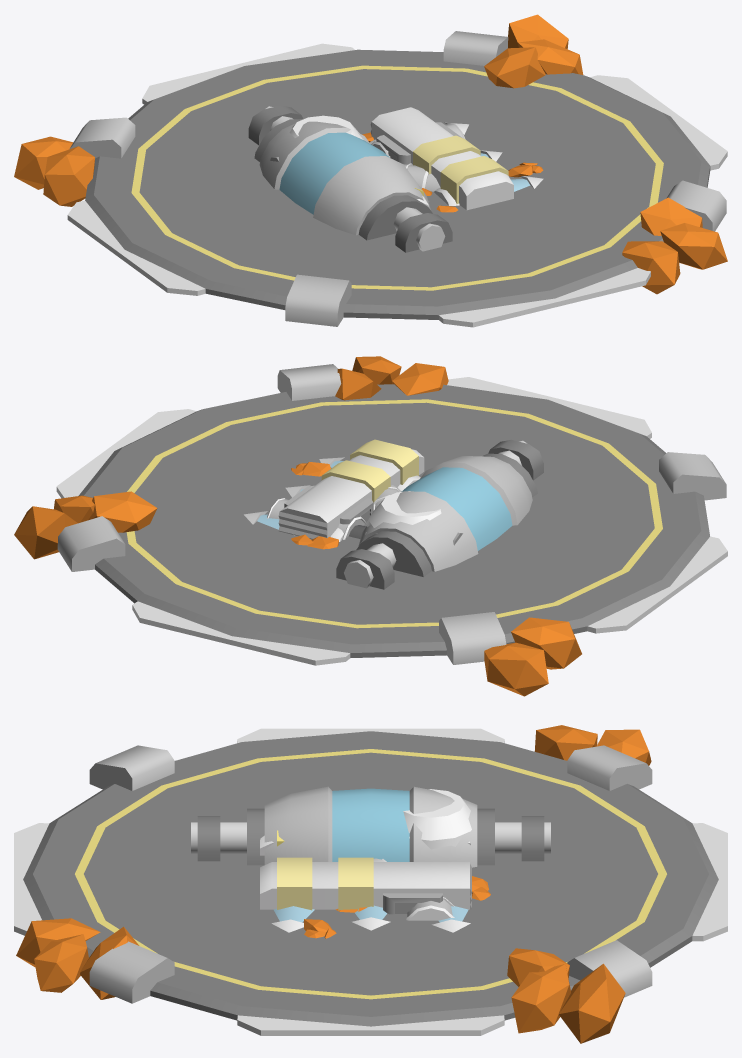
File: LandingPad.glb
3 renders of one model, top to bottom at view 1: azimuth 30°, elevation 25°; view 2: azimuth 150°, elevation 25°; view 3: azimuth 270°, elevation 25°, orthographic. The views are drawn at different scales.
Visible parts, largest first — view 1: Cylinder.009, Icosphere.001, Sphere, Cube.009, Cube.039, Cube.047, Cylinder.033, Tunnel.011, Cylinder.036, Cylinder.035, Cube.042; view 2: Cylinder.009, Icosphere.001, Sphere, Cube.009, Cube.039, Cube.047, Cylinder.033, Cylinder.035, Cube.041, Tunnel.011, Cylinder.036, Cube.042; view 3: Cylinder.009, Icosphere.001, Sphere, Cube.009, Cube.039, Cylinder.033, Cylinder.035, Cube.047, Tunnel.011, Cylinder.036, Cube.042.
Boxes of the visible parts, <box> form: Cylinder.009: <box>67,43,727,327</box>; Icosphere.001: <box>14,14,727,294</box>; Sphere: <box>254,119,432,240</box>; Cube.009: <box>69,31,726,326</box>; Cube.039: <box>371,107,513,210</box>; Cube.047: <box>248,105,452,252</box>; Cylinder.033: <box>362,122,543,212</box>; Tunnel.011: <box>265,106,445,251</box>; Cylinder.036: <box>371,123,465,195</box>; Cylinder.035: <box>289,115,363,139</box>; Cube.042: <box>376,122,461,164</box>; Cylinder.009: <box>56,377,727,665</box>; Icosphere.001: <box>14,356,581,696</box>; Sphere: <box>356,453,537,576</box>; Cube.009: <box>57,364,726,664</box>; Cube.039: <box>280,439,424,537</box>; Cube.047: <box>336,439,543,589</box>; Cylinder.033: <box>244,457,420,549</box>; Cylinder.035: <box>367,491,441,533</box>; Cube.041: <box>278,508,327,539</box>; Tunnel.011: <box>344,440,526,588</box>; Cylinder.036: <box>267,485,401,539</box>; Cube.042: <box>284,485,373,524</box>; Cylinder.009: <box>14,728,727,1035</box>; Icosphere.001: <box>16,725,651,1043</box>; Sphere: <box>247,786,494,867</box>; Cube.009: <box>89,745,652,1003</box>; Cube.039: <box>260,857,469,910</box>; Cylinder.033: <box>271,876,490,938</box>; Cylinder.035: <box>403,789,471,849</box>; Cube.047: <box>197,816,544,861</box>; Tunnel.011: <box>191,822,550,853</box>; Cylinder.036: <box>373,858,454,920</box>; Cube.042: <box>383,893,442,914</box>.
Bounding box in the file's own units: 11.9 × 2.27 × 11.9.
Materials: 2 (2 with a texture image).
